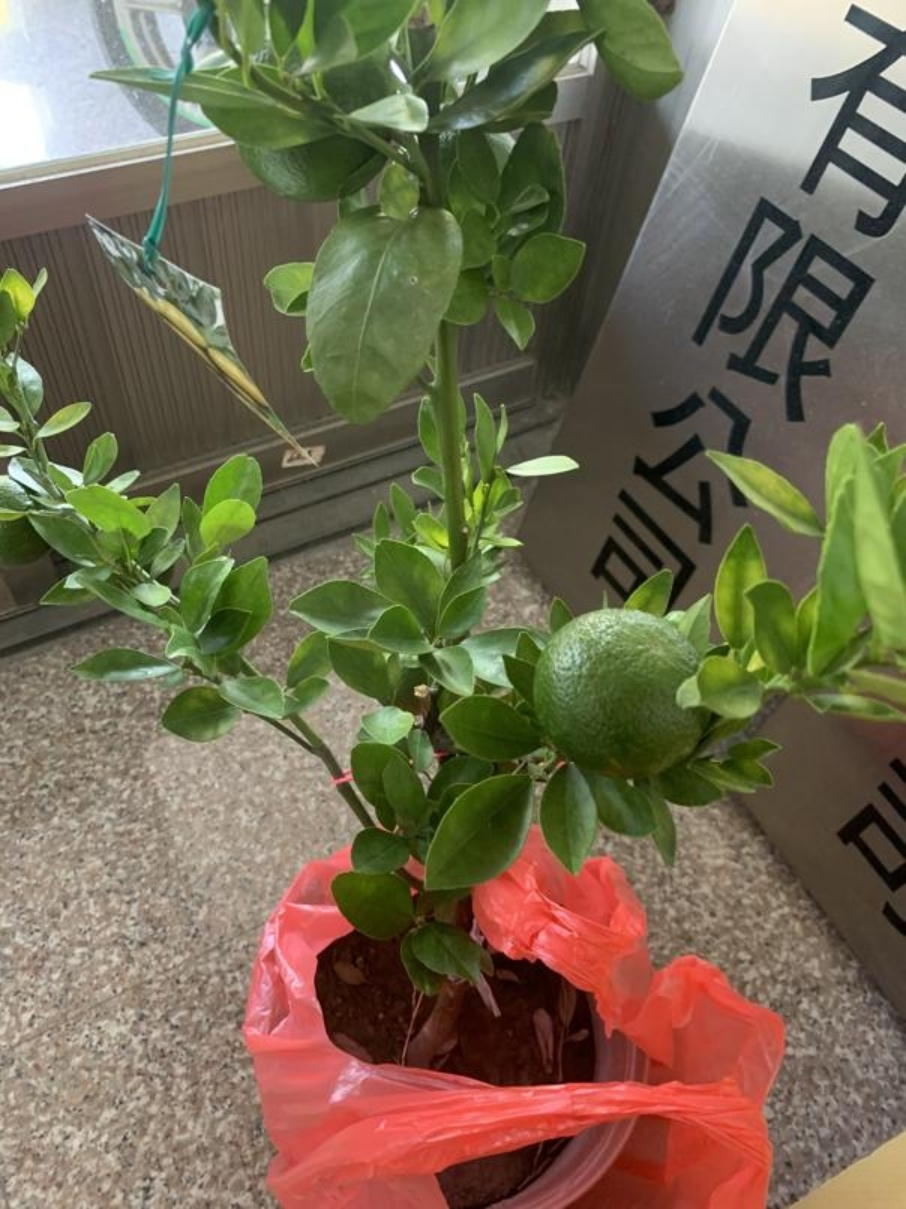Tangerine: (528, 603, 710, 783)
